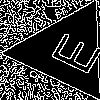E: (40, 26, 100, 77)
